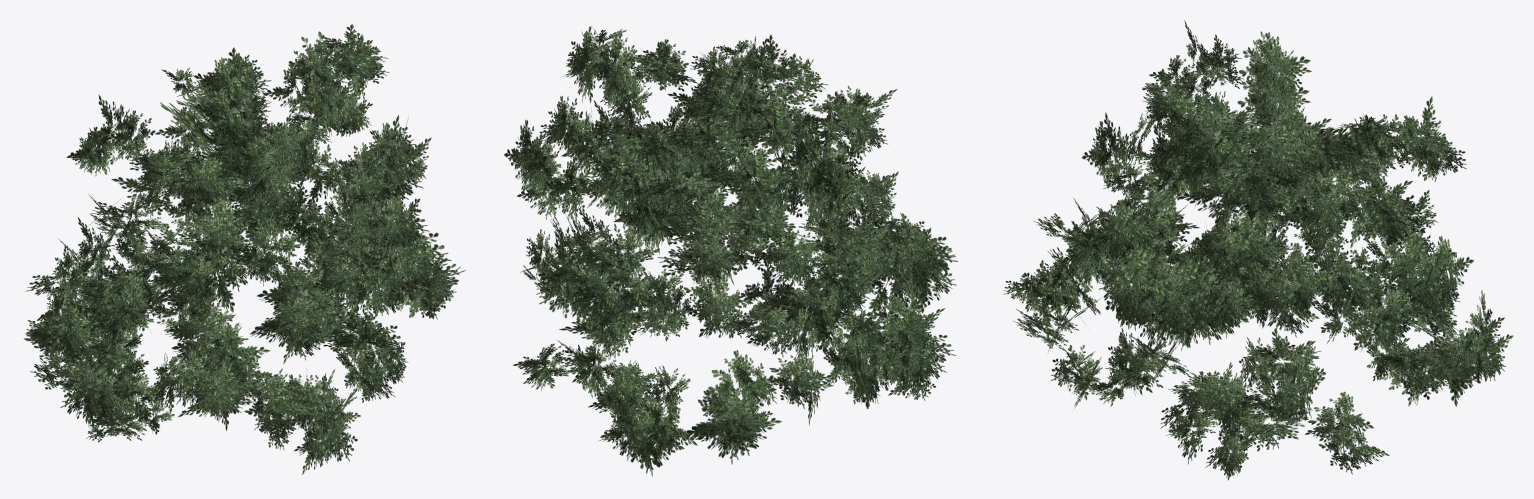
The model's file is tree_leaves.glb.
3 views of the same model, side by side, from view 1: azimuth 30°, elevation 25°; view 2: azimuth 150°, elevation 25°; view 3: azimuth 270°, elevation 25° (orthographic). The views are drawn at different scales.
Visible parts, largest first — view 1: leaves; view 2: leaves; view 3: leaves.
Boxes of the visible parts, bbox=[...] form: leaves: bbox=[24, 24, 465, 474]; leaves: bbox=[504, 26, 957, 476]; leaves: bbox=[1003, 20, 1513, 480].
Size of the model in its own units: 12.69 by 10.67 by 12.84.
1 material, 1 textured.
